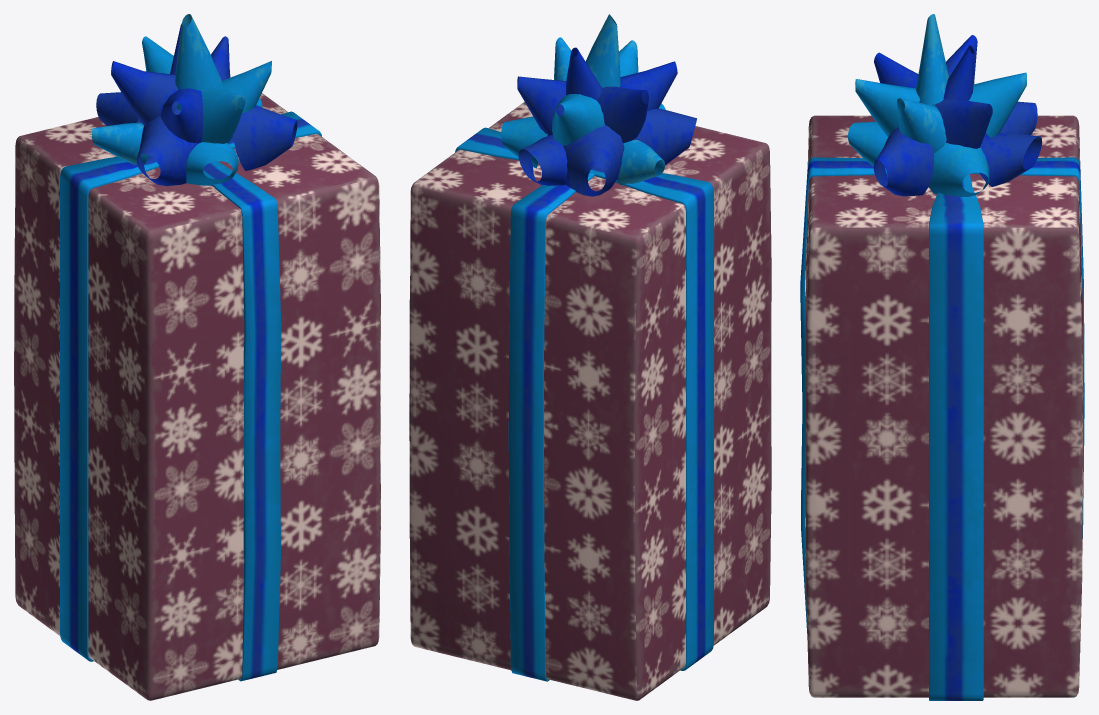
File: Gift0203.gltf
3 views of the same model, side by side, from view 1: azimuth 30°, elevation 25°; view 2: azimuth 150°, elevation 25°; view 3: azimuth 270°, elevation 25° (orthographic).
Visible parts, largest first — view 1: Present; view 2: Present; view 3: Present.
Boxes of the visible parts, bbox=[...] form: Present: bbox=[14, 14, 380, 700]; Present: bbox=[409, 14, 771, 700]; Present: bbox=[800, 14, 1084, 700].
Size of the model in its own units: 0.0676 by 0.1705 by 0.0703.
1 material, 1 textured.
